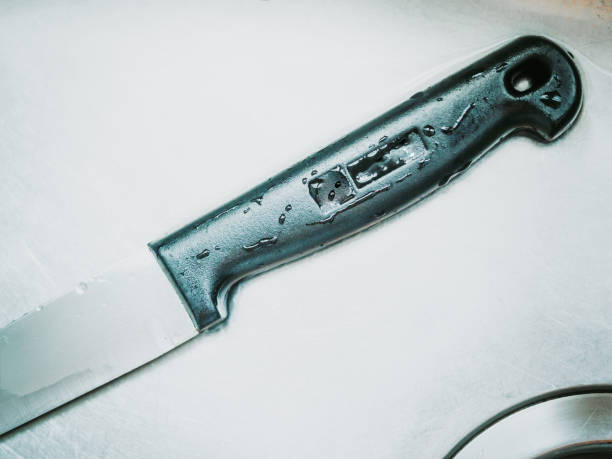knife: (0, 34, 586, 435)
